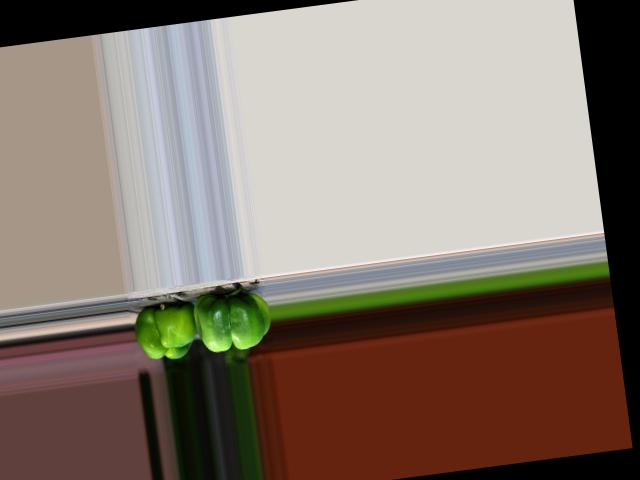bell_pepper: (129, 295, 201, 366)
